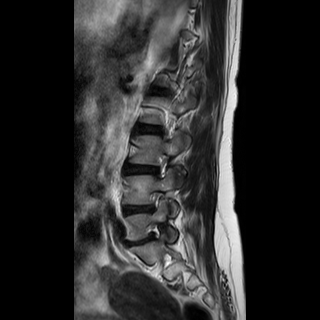LFS1: (151, 144, 174, 184)
LFS2: (147, 185, 170, 217), (145, 218, 167, 244)
